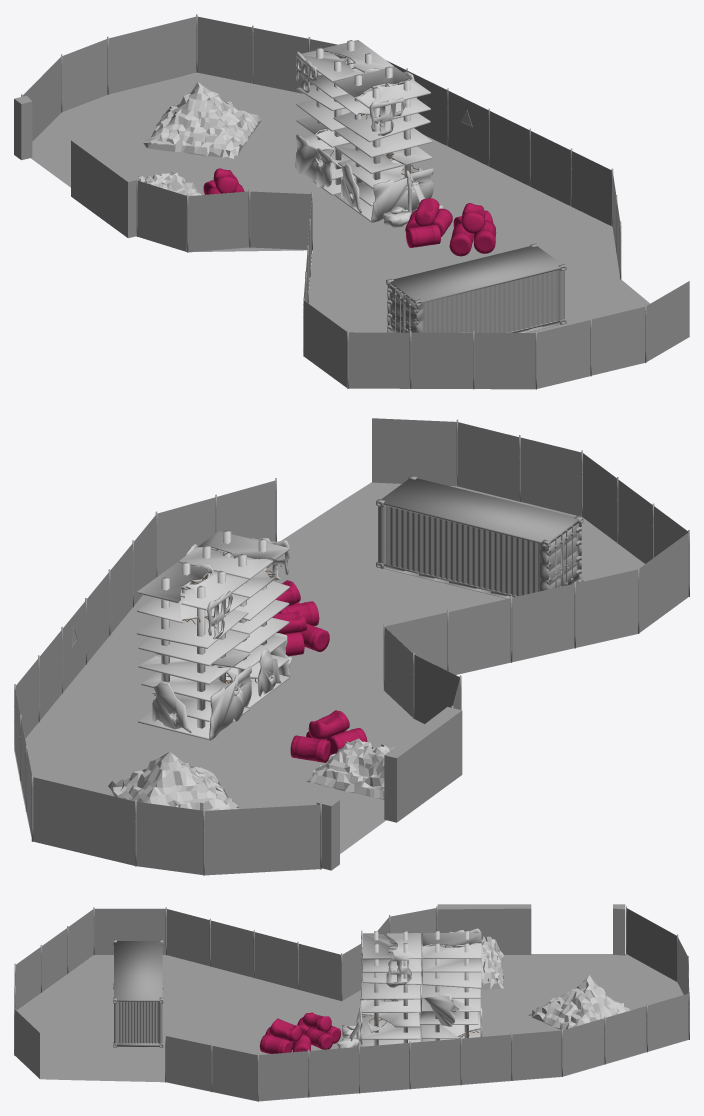
File: tercera_sala.obj
3 views of the same model, one above another, from view 1: azimuth 30°, elevation 25°; view 2: azimuth 150°, elevation 25°; view 3: azimuth 270°, elevation 25° (orthographic). The views are drawn at different scales.
Visible parts, largest first — view 1: Plane; view 2: Plane; view 3: Plane.
Part boxes in pixels (box(x1,y1,x2,y2)): Plane: box(14, 14, 689, 389); Plane: box(14, 418, 689, 875); Plane: box(14, 904, 689, 1101).
Bounding box in the file's own units: 58.44 × 18.68 × 110.
